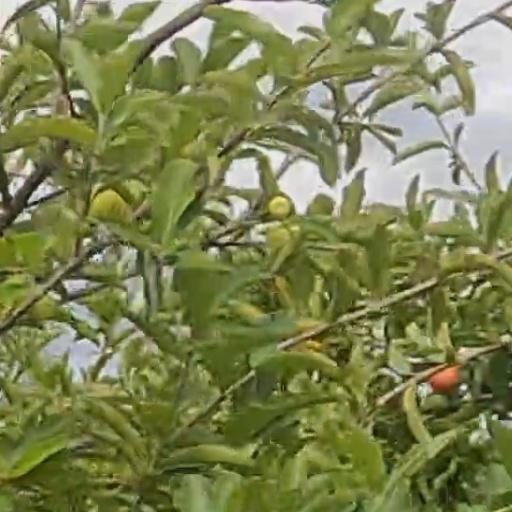acerola_vermelha: (432, 368, 458, 391)
